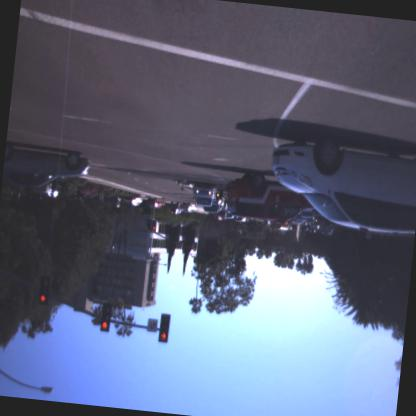trafficlight: (14, 278, 53, 310), (96, 298, 116, 334), (153, 312, 169, 346)
